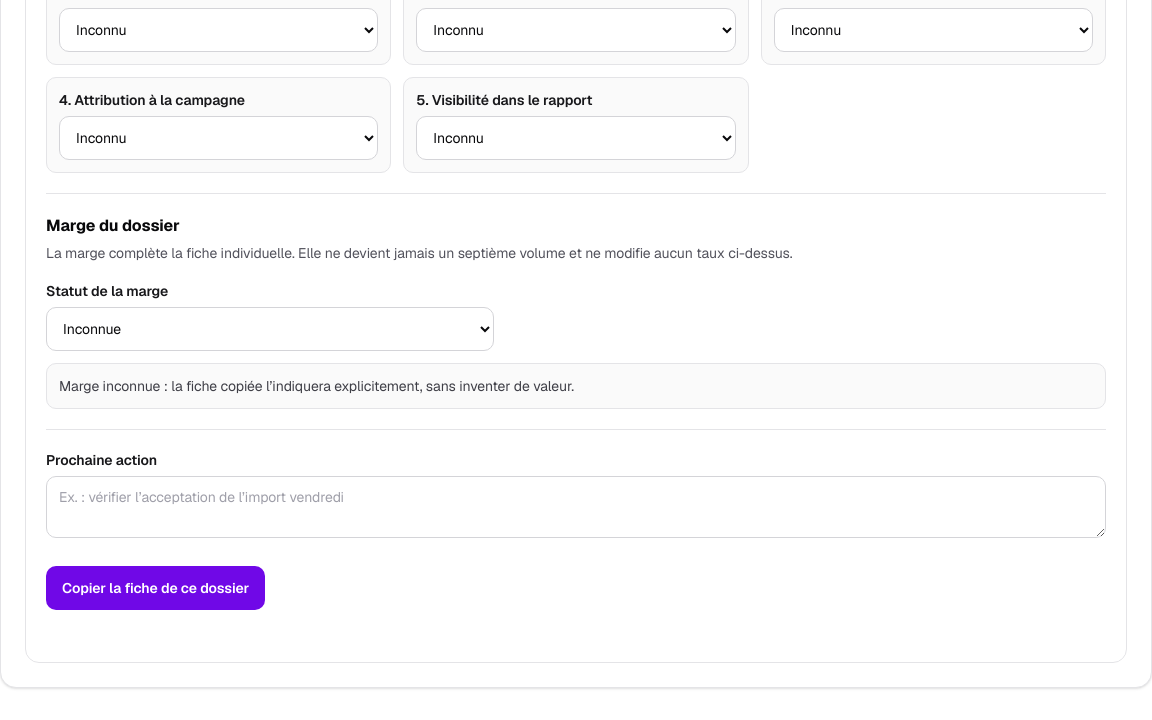
Test case: ConversionReconciliationTool › refuses to copy an empty case sheet and explains every missing part
(page scrolled)
Click the button "Copier la fiche de ce dossier".
click(156, 588)  # box top-left (46, 566), bottom-right (265, 610)
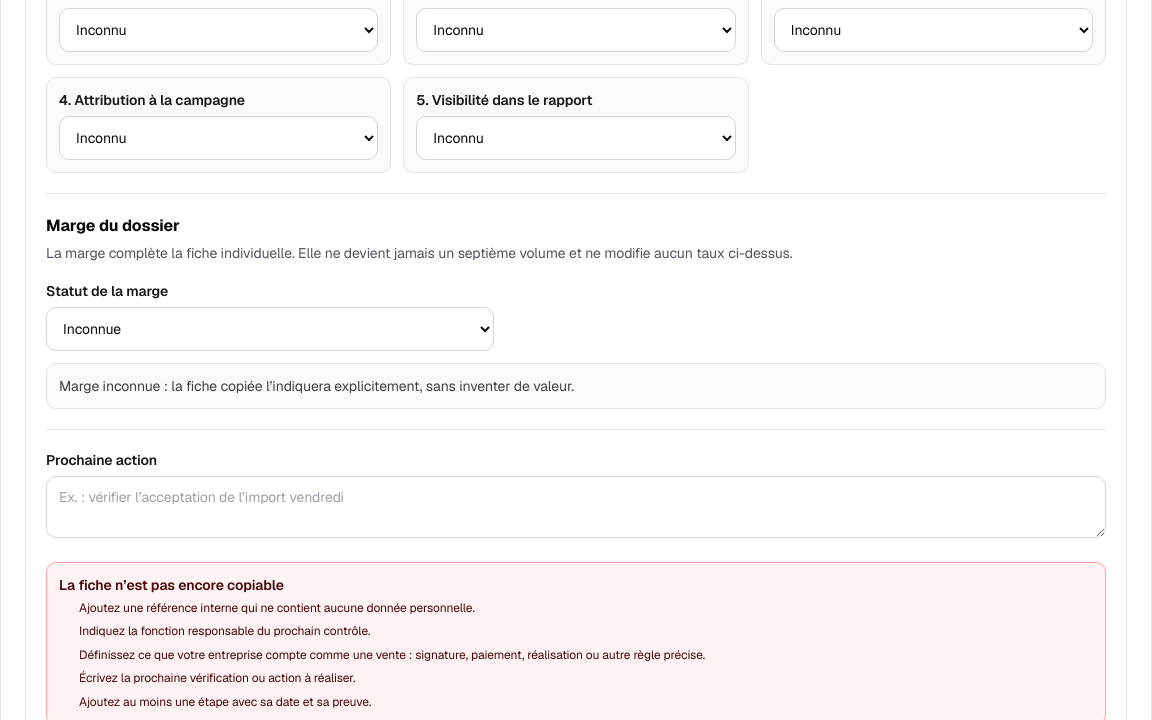
Expected: the text "La fiche n’est pas encore copiable" is shown, top-left (59, 576), bottom-right (284, 594)
Expected: the text "Définissez ce que votre entreprise" is shown, top-left (79, 646), bottom-right (705, 662)
Expected: the text "au moins une étape avec sa date" is shown, top-left (79, 694), bottom-right (371, 710)
